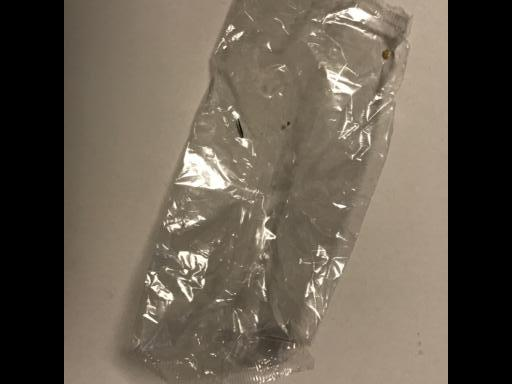trash: (129, 4, 414, 380)
